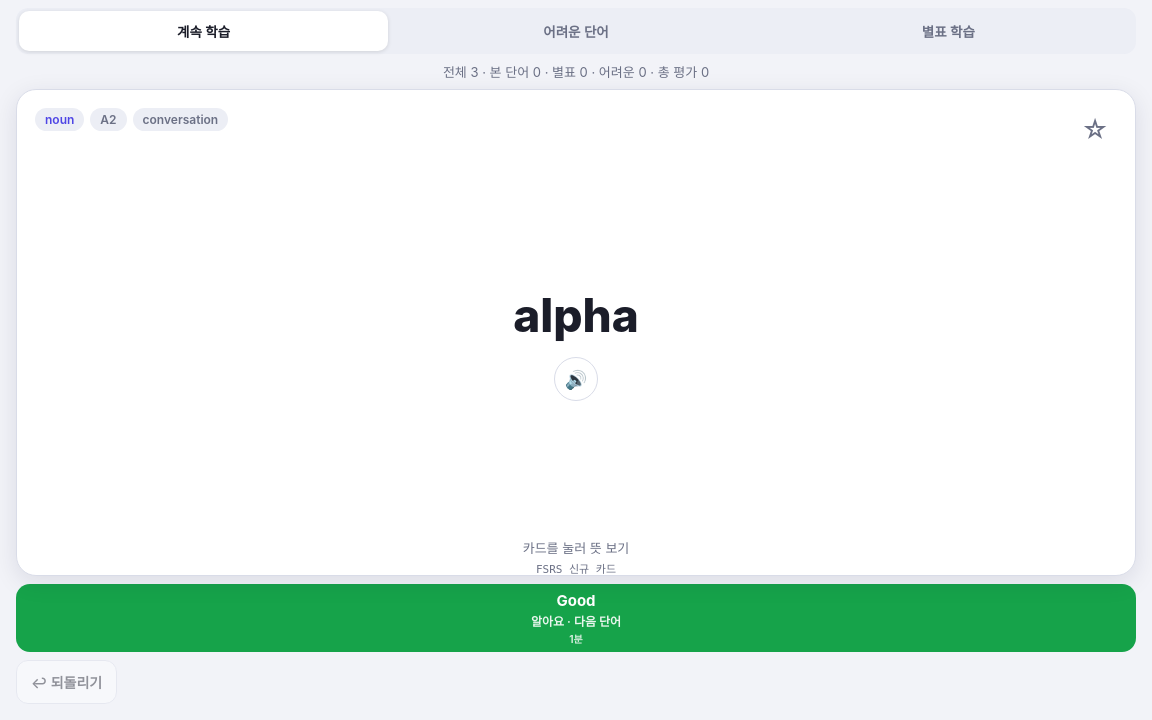
Test: 단순 탭 학습 화면 › 진단 미리보기는 실제 정책인 Again 30분과 Hard 2시간을 표시한다
Click the button with test id "study-card" at point(576, 332), box [16,89,1136,576]
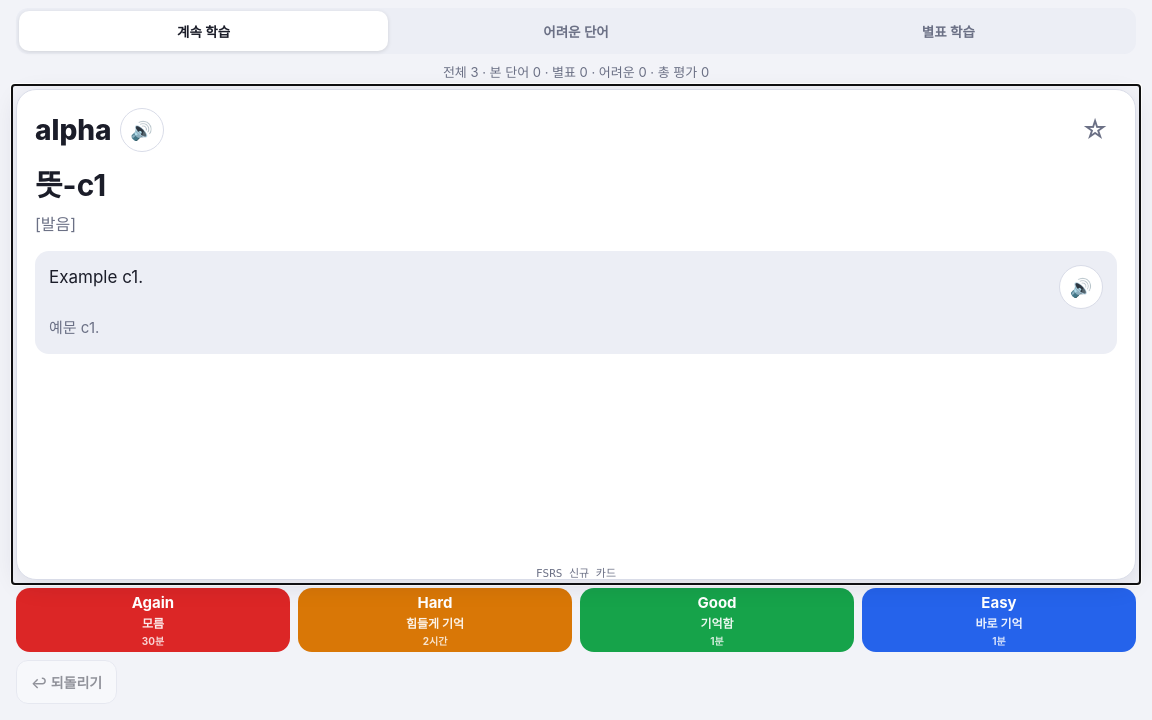
Expected: the text "30분" is shown, [142,632,164,648]
Expected: the text "2시간" is shown, [423,632,447,648]
